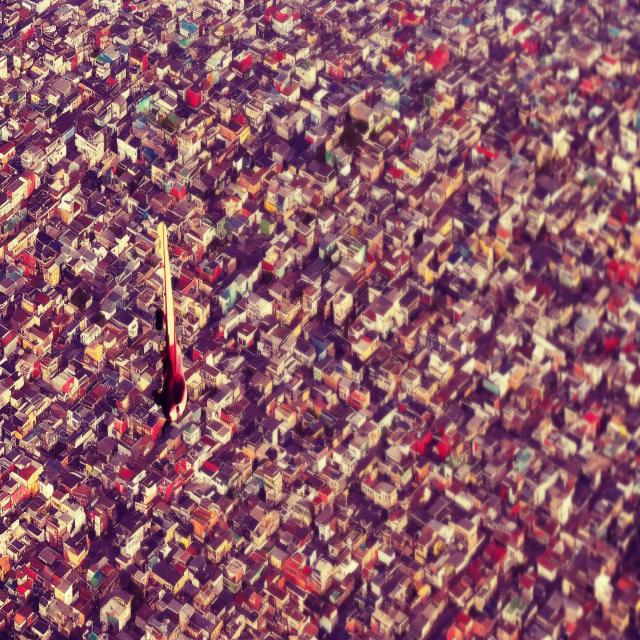airplane: (151, 221, 188, 423)
